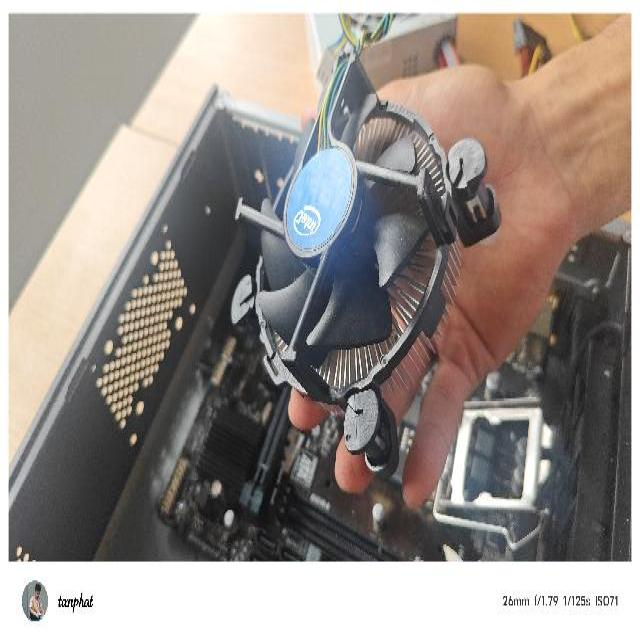CPU_Fan: (230, 21, 504, 482)
